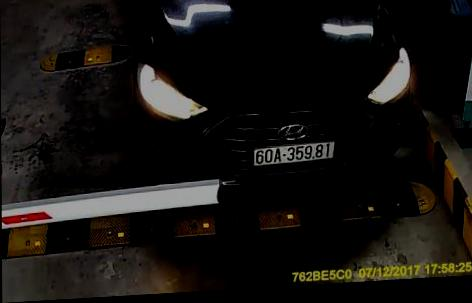License_Plate: (252, 140, 335, 167)
